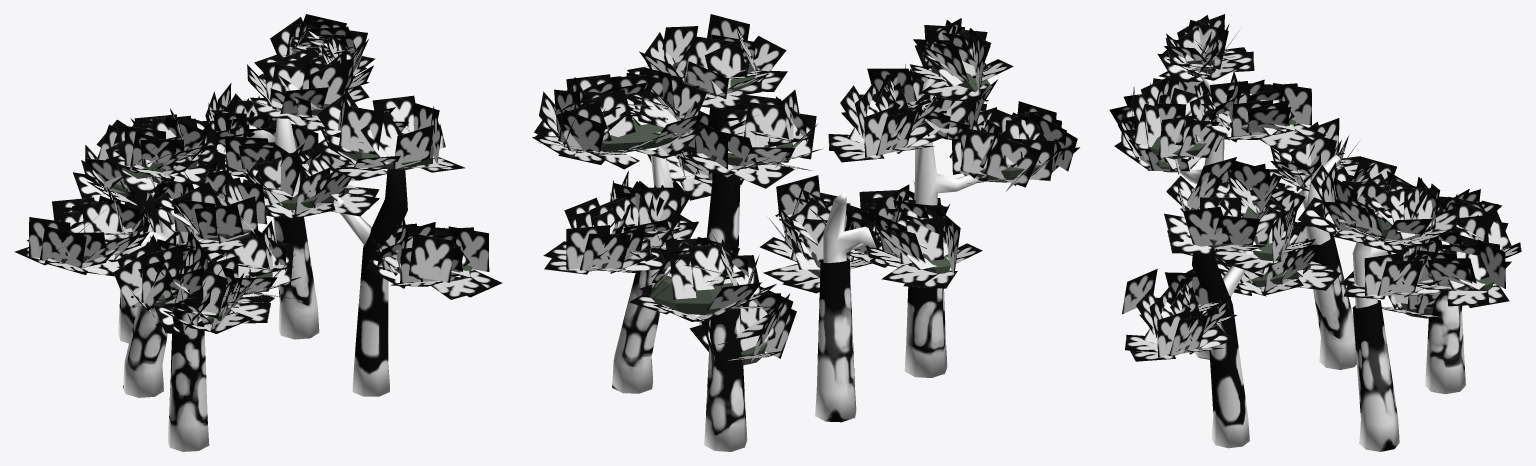
File: pines_collected.glb
3 views of the same model, side by side, from view 1: azimuth 30°, elevation 25°; view 2: azimuth 150°, elevation 25°; view 3: azimuth 270°, elevation 25° (orthographic). The views are drawn at different scales.
Visible parts, largest first — view 1: Plane.372, Plane.253, Plane.250, Plane.252, Cube.028, Cube.041, Cube.040, Cube.046, Plane.251, Cube.035, Cube.042, Cube.024 (+2 smaller); view 2: Plane.372, Plane.250, Plane.253, Plane.252, Plane.251, Cube.046, Cube.042, Cube.040, Cube.041, Cube.028, Cube.025, Cube.045 (+4 smaller); view 3: Plane.253, Plane.372, Plane.250, Plane.252, Cube.040, Cube.028, Cube.046, Plane.251, Cube.042, Cube.024, Cube.045, Cube.035 (+4 smaller).
Part boxes in pixels (x1,y1,x2,y2): Plane.372: [106, 108, 270, 335]; Plane.253: [243, 92, 502, 299]; Plane.250: [191, 14, 375, 176]; Plane.252: [14, 187, 301, 302]; Cube.028: [352, 169, 407, 396]; Cube.041: [167, 286, 209, 451]; Cube.040: [273, 216, 319, 339]; Cube.046: [123, 305, 167, 397]; Plane.251: [73, 118, 160, 234]; Cube.035: [266, 133, 472, 281]; Cube.042: [118, 191, 151, 343]; Cube.024: [250, 118, 295, 210]; Plane.372: [828, 18, 1079, 267]; Plane.250: [532, 67, 706, 274]; Plane.253: [627, 14, 821, 200]; Plane.252: [760, 175, 982, 293]; Plane.251: [629, 236, 796, 366]; Cube.046: [815, 259, 856, 422]; Cube.042: [704, 306, 747, 451]; Cube.040: [612, 248, 667, 393]; Cube.041: [904, 202, 947, 377]; Cube.028: [698, 107, 740, 325]; Cube.025: [914, 78, 981, 205]; Cube.045: [823, 193, 876, 263]; Plane.253: [1122, 157, 1315, 361]; Plane.372: [1109, 14, 1325, 272]; Plane.250: [1298, 156, 1511, 307]; Plane.252: [1215, 118, 1360, 296]; Cube.040: [1352, 300, 1399, 451]; Cube.028: [1192, 247, 1249, 448]; Cube.046: [1310, 232, 1356, 369]; Plane.251: [1381, 189, 1521, 317]; Cube.042: [1425, 290, 1465, 394]; Cube.024: [1352, 242, 1406, 308]; Cube.045: [1300, 155, 1340, 244]; Cube.035: [1167, 191, 1288, 356].
Bounding box in the file's own units: 2.6 × 2.15 × 2.49.
7 materials, 5 textured.
